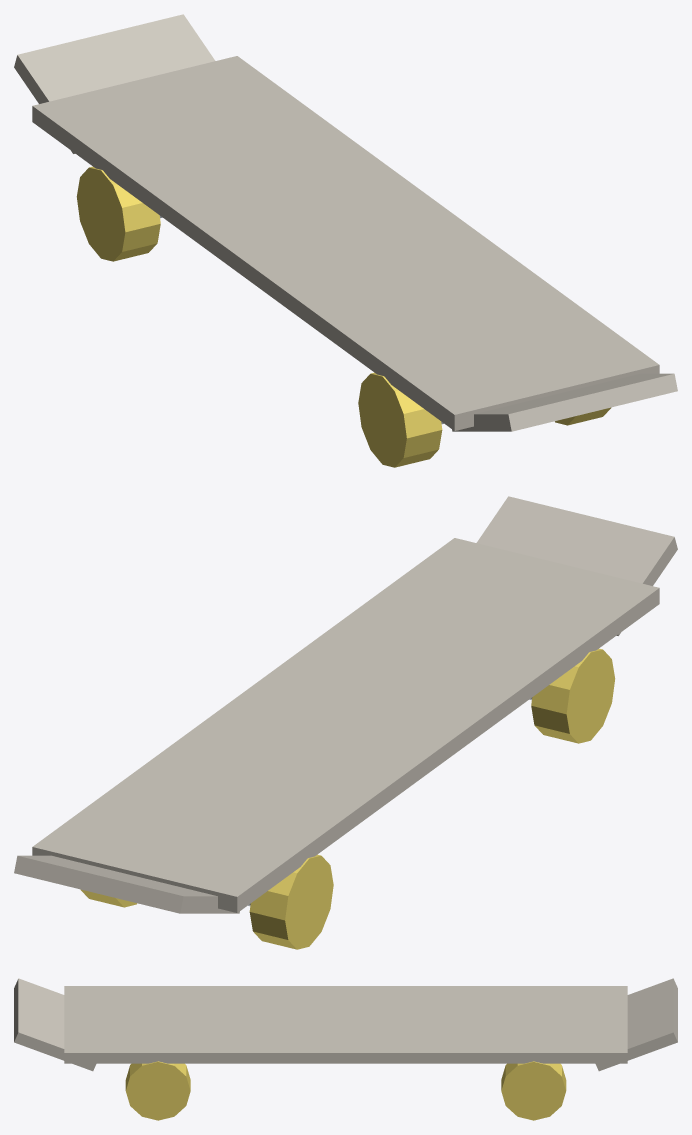
Rendered from skateboard.glb.
3 renders of one model, top to bottom at view 1: azimuth 30°, elevation 25°; view 2: azimuth 150°, elevation 25°; view 3: azimuth 270°, elevation 25°, orthographic. The views are drawn at different scales.
Visible parts, largest first — view 1: skateboard; view 2: skateboard; view 3: skateboard.
Part boxes in pixels (x1,y1,x2,y2): skateboard: (14, 14, 677, 467); skateboard: (14, 496, 677, 949); skateboard: (14, 978, 677, 1120).
Size of the model in its own units: 0.188 by 0.1052 by 0.778.
